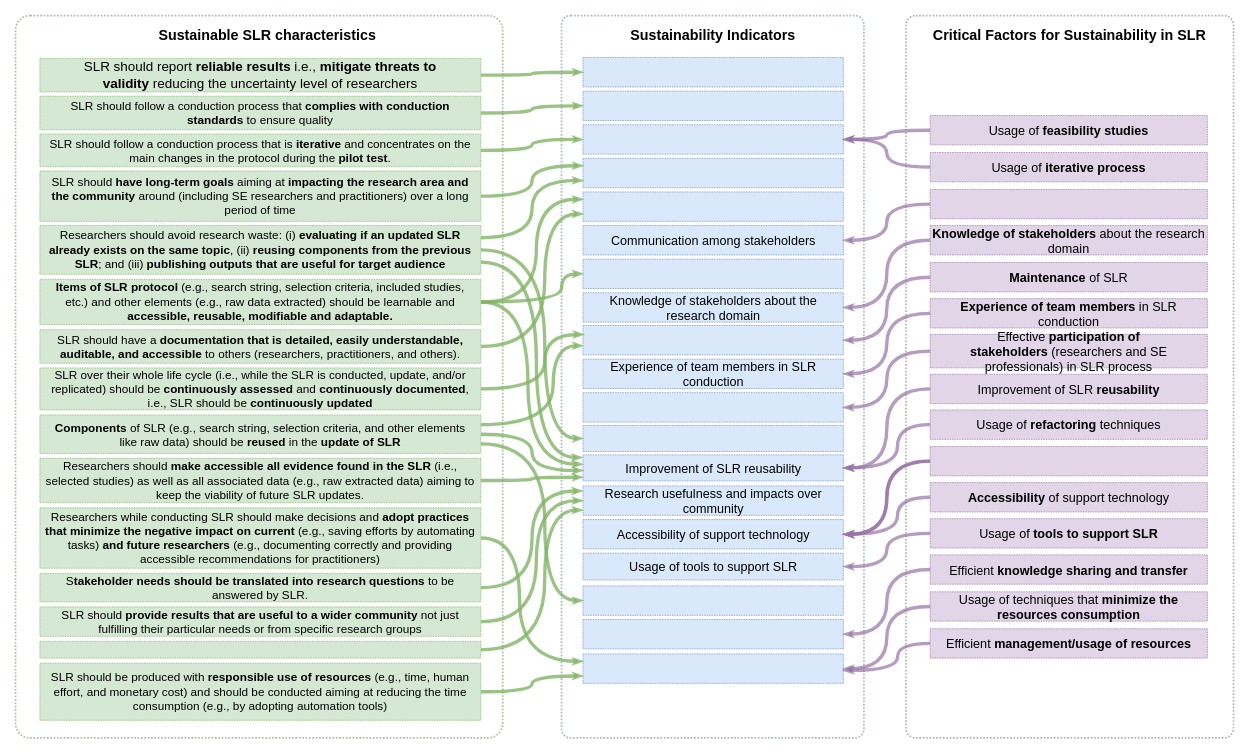
This 1248x753 diagram has some shape labels left out. Here are the shapes that lost their labels. From the top down, the centre of each, then its label:
the point at 712,72: Study reliability
the point at 712,105: Compliance with standards defined for conduction/update
the point at 712,139: Usage of iterations and pilot tests
the point at 712,173: Long-term goals and research impact over time
the point at 712,206: Documentation quality
the point at 1068,204: Rich communication
the point at 712,273: Acessibility of SLR artifacts
the point at 712,340: Continuous update
the point at 712,407: Participation/collaboration of stakeholders
the point at 712,438: Research waste
the point at 1068,461: Maturity of support technology
the point at 712,600: Components reuse
the point at 260,649: SLR results should positively impact a research area
the point at 712,634: Knowledge sharing/transfer
the point at 712,668: Resources usage
